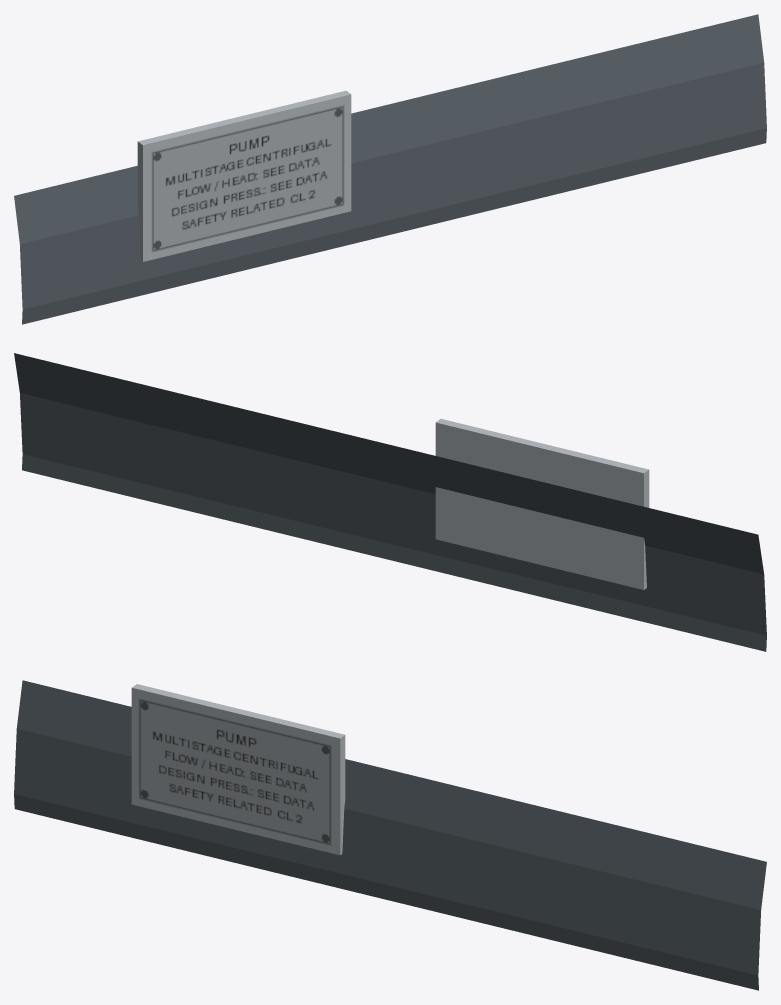
File: cell_37.obj
3 views of the same model, one above another, from view 1: azimuth 30°, elevation 25°; view 2: azimuth 150°, elevation 25°; view 3: azimuth 330°, elevation 25° (orthographic).
Bounding box in the file's own units: 1 × 0.195 × 0.025.
